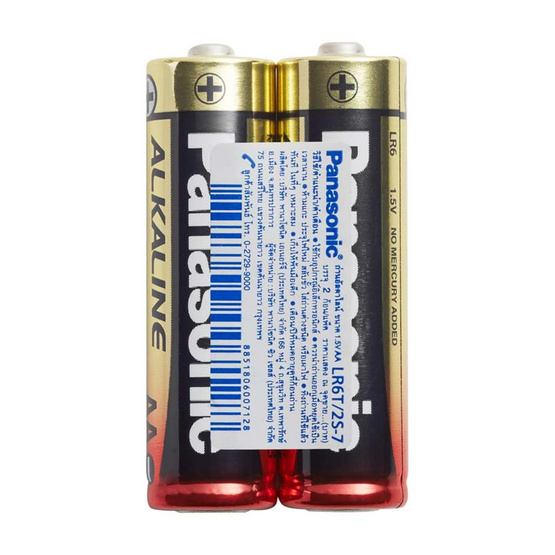Battery: (273, 40, 411, 515), (142, 42, 280, 516)
